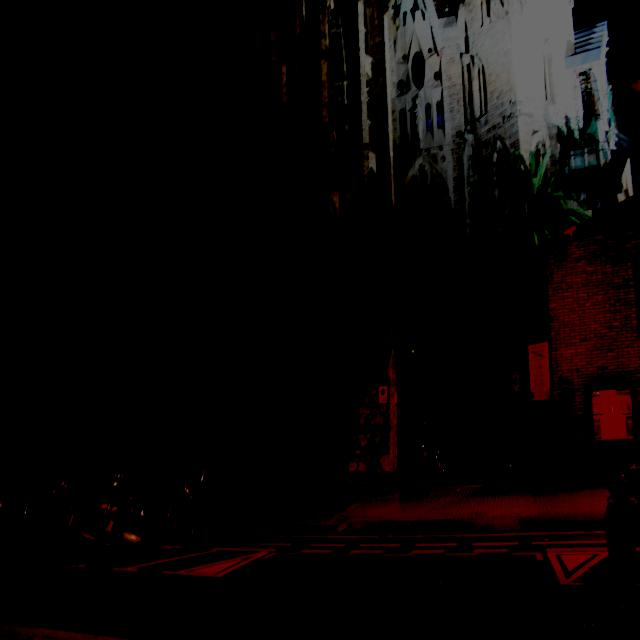Motorbike: (116, 469, 198, 557), (70, 472, 140, 554), (2, 464, 71, 546)
